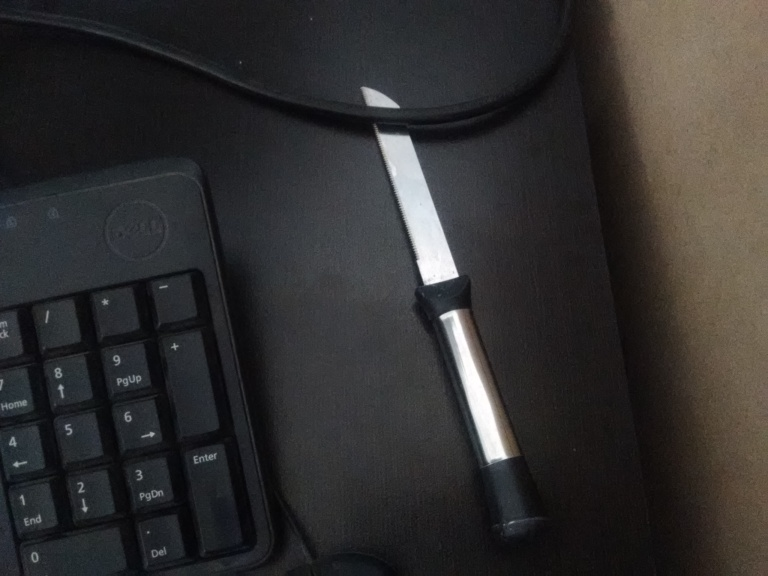knife: (358, 85, 552, 545)
